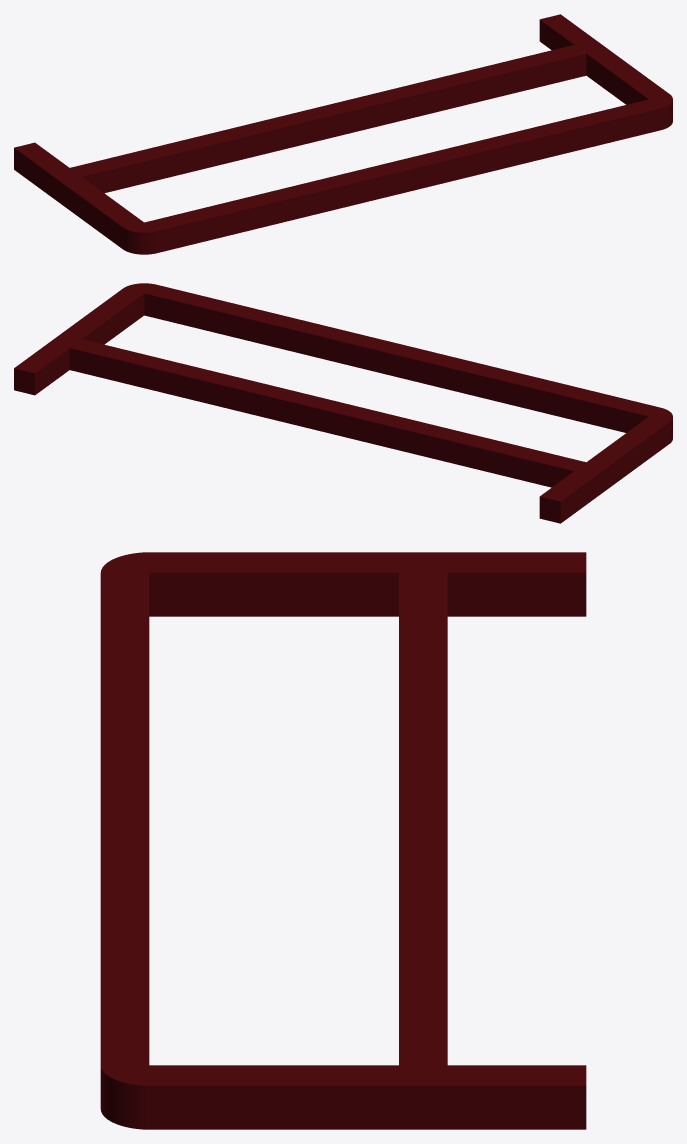
The model's file is barrier_2.dae.
3 views of the same model, one above another, from view 1: azimuth 30°, elevation 25°; view 2: azimuth 150°, elevation 25°; view 3: azimuth 270°, elevation 25° (orthographic). The views are drawn at different scales.
Parts seen in each view (by area): view 1: coords_ME_ID3_MA_material_28, coords_ME_ID11_MA_material_28; view 2: coords_ME_ID3_MA_material_28, coords_ME_ID11_MA_material_28; view 3: coords_ME_ID3_MA_material_28, coords_ME_ID11_MA_material_28.
Boxes of the visible parts, x1,y1,x2,y2 form: coords_ME_ID3_MA_material_28: [14, 14, 672, 254]; coords_ME_ID11_MA_material_28: [82, 53, 648, 193]; coords_ME_ID3_MA_material_28: [14, 283, 672, 523]; coords_ME_ID11_MA_material_28: [82, 293, 648, 432]; coords_ME_ID3_MA_material_28: [100, 552, 586, 1129]; coords_ME_ID11_MA_material_28: [149, 572, 398, 616].
Bounding box in the file's own units: 14.33 × 0.5512 × 5.51.
